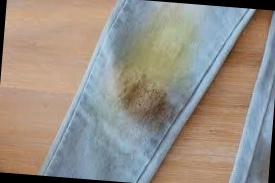earth: (119, 14, 188, 116)
